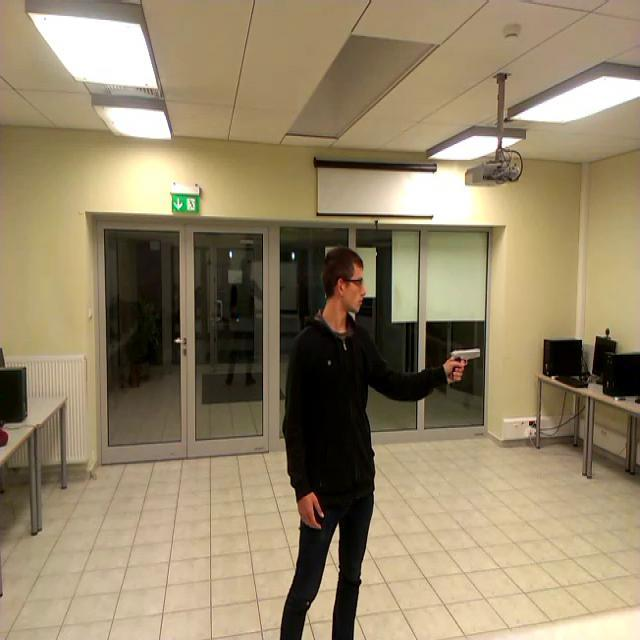Gun: (449, 346, 481, 378)
